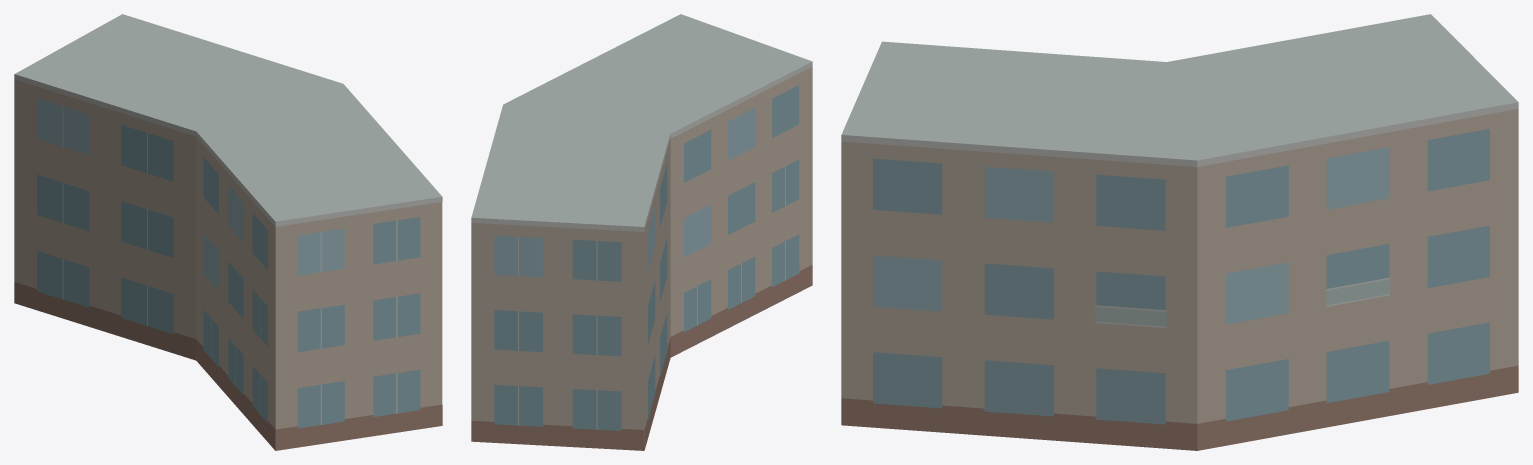
File: survey-upis-32977737.glb
The picture shows the model from 3 angles, left to right: view 1: azimuth 30°, elevation 25°; view 2: azimuth 150°, elevation 25°; view 3: azimuth 270°, elevation 25°; orthographic projection. The views are drawn at different scales.
Parts seen in each view (by area): view 1: survey-upis-32977737.tmp; view 2: survey-upis-32977737.tmp; view 3: survey-upis-32977737.tmp.
Boxes of the visible parts, x1,y1,x2,y2 form: survey-upis-32977737.tmp: (14, 14, 442, 450); survey-upis-32977737.tmp: (471, 14, 812, 450); survey-upis-32977737.tmp: (841, 14, 1518, 450).
Size of the model in its own units: 11.69 by 10.8 by 22.84.
